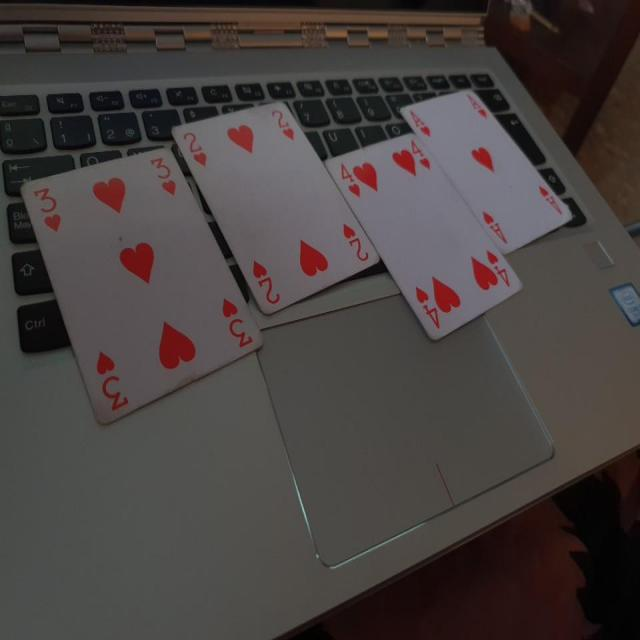2 Hearts: (166, 98, 387, 317)
3 Hearts: (23, 140, 268, 441)
4 Hearts: (328, 133, 524, 351)
A Hearts: (396, 80, 576, 241)
